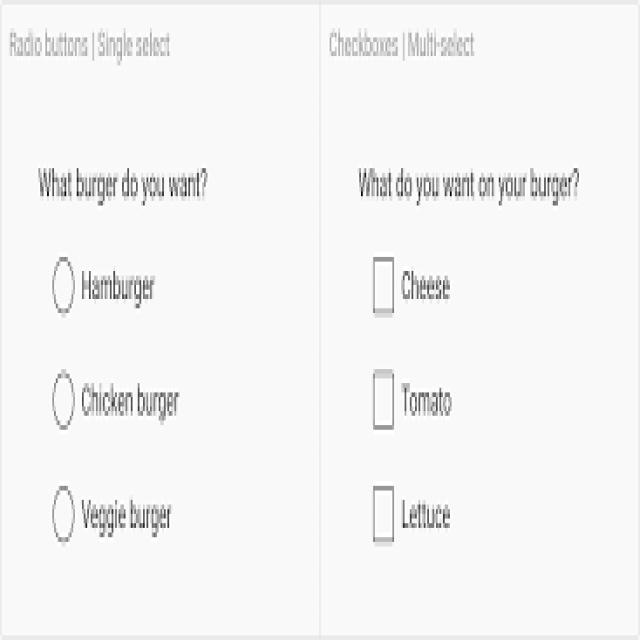checkbox: (369, 250, 454, 326), (372, 367, 458, 440), (371, 480, 455, 550)
radio: (53, 365, 180, 440), (52, 253, 170, 329), (50, 485, 174, 553)
text: (38, 161, 208, 215), (355, 166, 583, 206)
